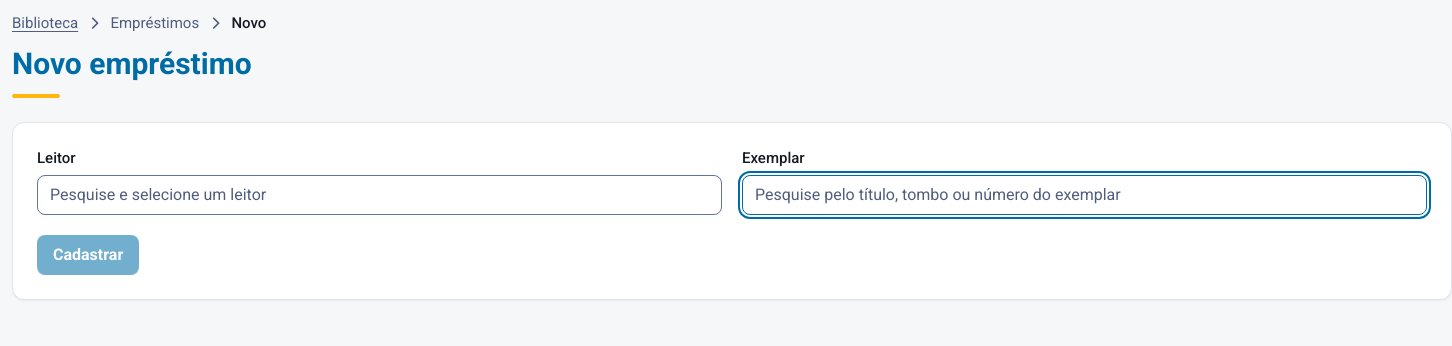
Test: novo empréstimo autocomplete › uses exemplar-specific labels and validation messages
This screenshot has width=1452, height=346.
In the dropdown with id "exemplar": (1084, 195) [742,175,1427,215], type "não existe"
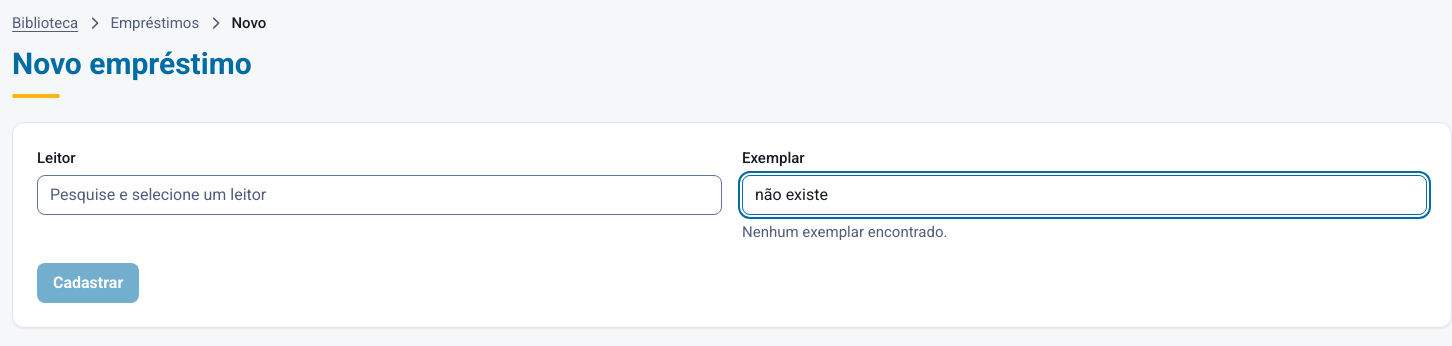
Expected: the message "Nenhum exemplar encontrado." is shown, [742,223,948,241]
